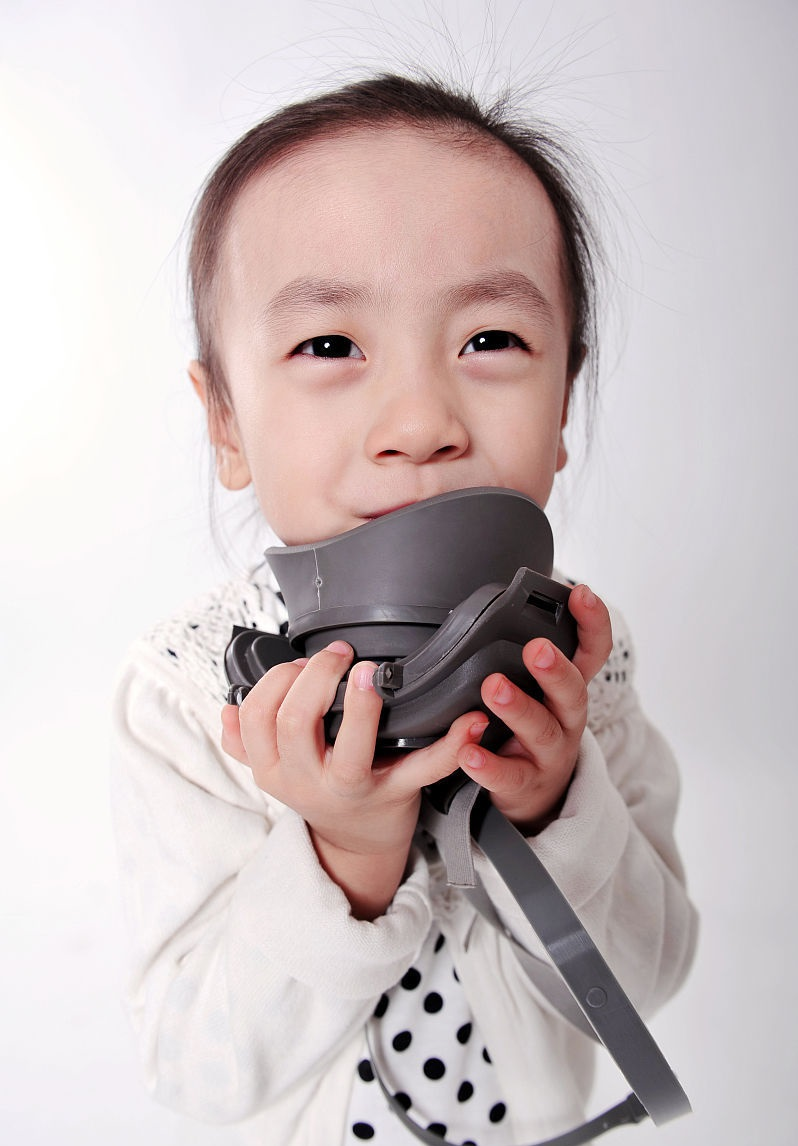face_mask: (215, 137, 560, 582)
